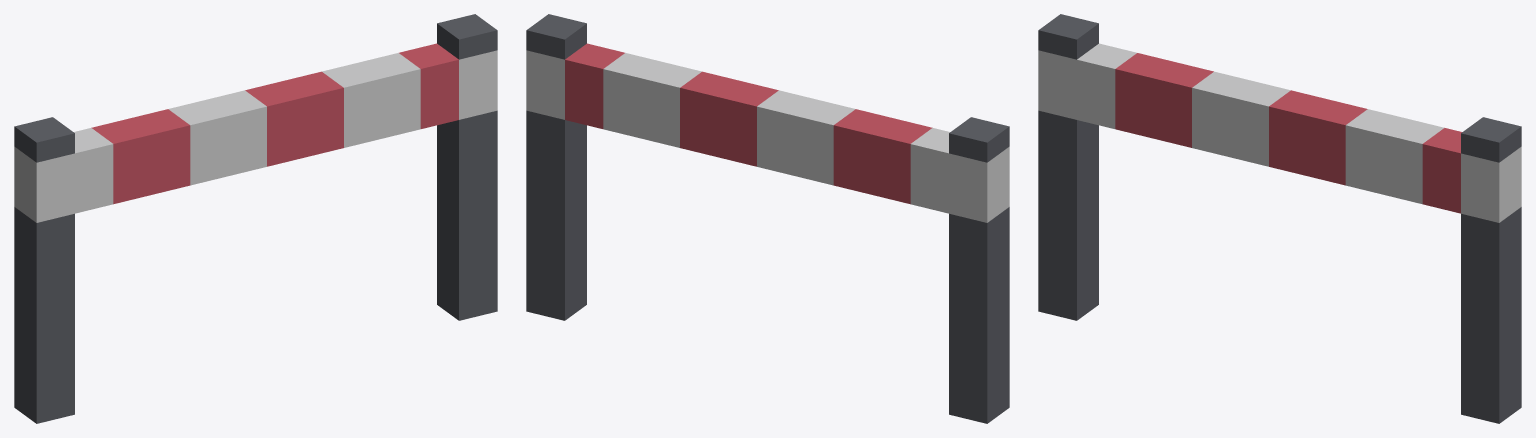
The model's file is barriere.glb.
3 views of the same model, side by side, from view 1: azimuth 30°, elevation 25°; view 2: azimuth 150°, elevation 25°; view 3: azimuth 330°, elevation 25° (orthographic).
Visible parts, largest first — view 1: main; view 2: main; view 3: main.
Part boxes in pixels (x1=…): main: x1=14, y1=14, x2=497, y2=423; main: x1=526, y1=14, x2=1009, y2=423; main: x1=1038, y1=14, x2=1521, y2=423.
Size of the model in its own units: 1.5 by 0.875 by 0.125.
